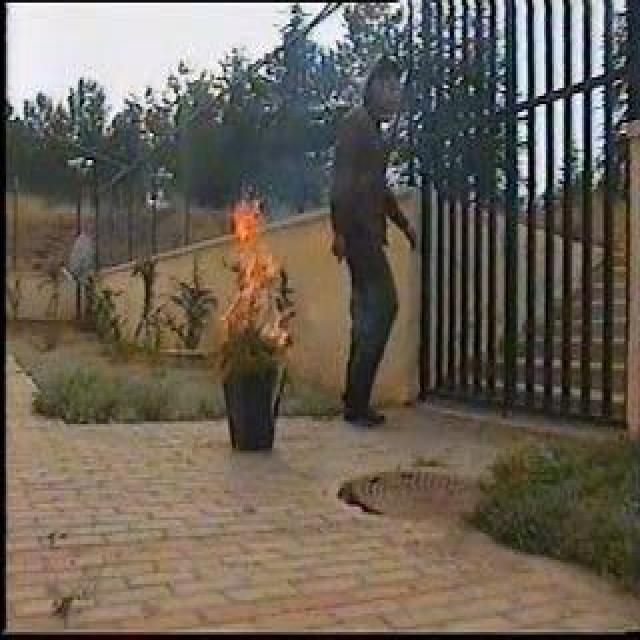fire: (220, 187, 284, 352)
